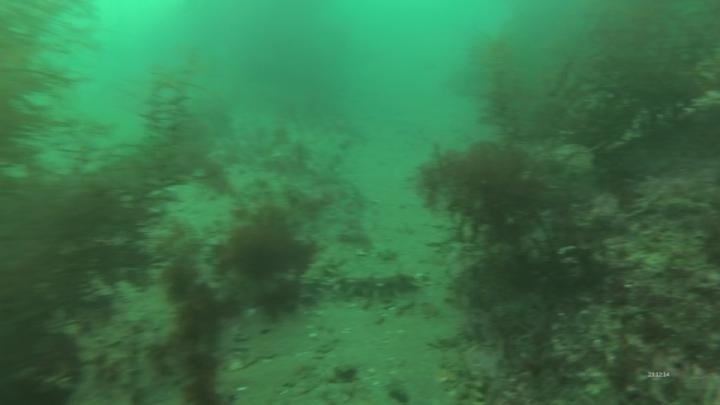holothurian: (323, 260, 428, 304)
